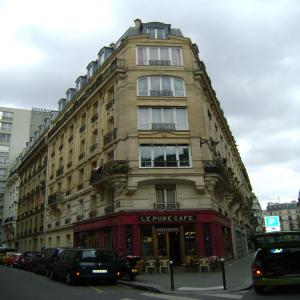Vehicle-registration-plate: (93, 271, 108, 273)
